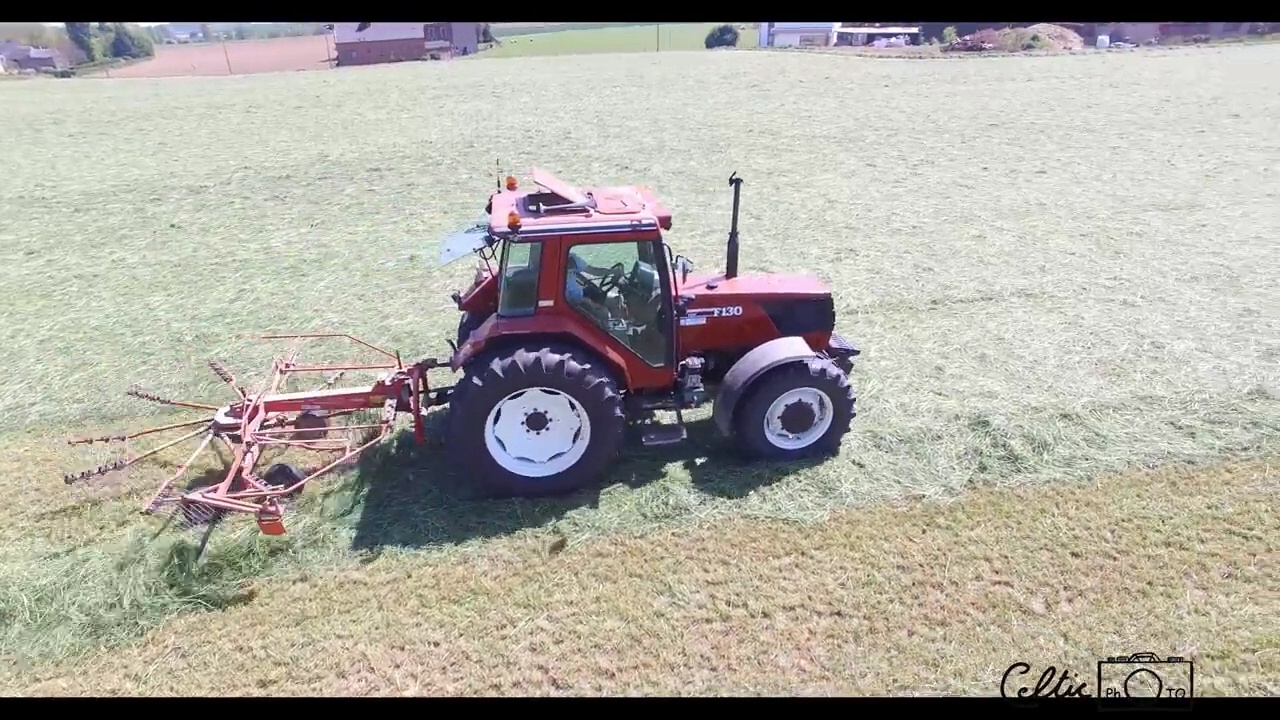traktor: (442, 168, 863, 498)
